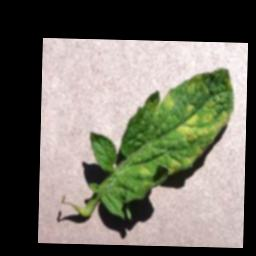Leaf_Mold: (176, 100, 231, 144), (160, 89, 174, 111), (185, 156, 193, 166)
